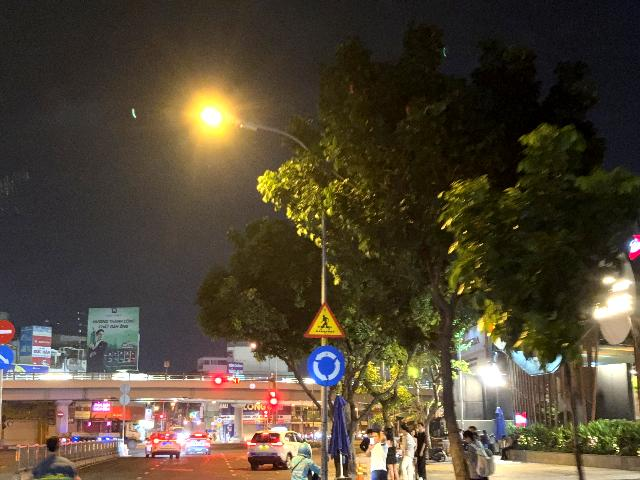duong-nguoi-di-bo-cat-ngang: (304, 300, 346, 338)
noi-giao-nhau-chay-theo-vong-xuyen: (307, 345, 345, 387)
